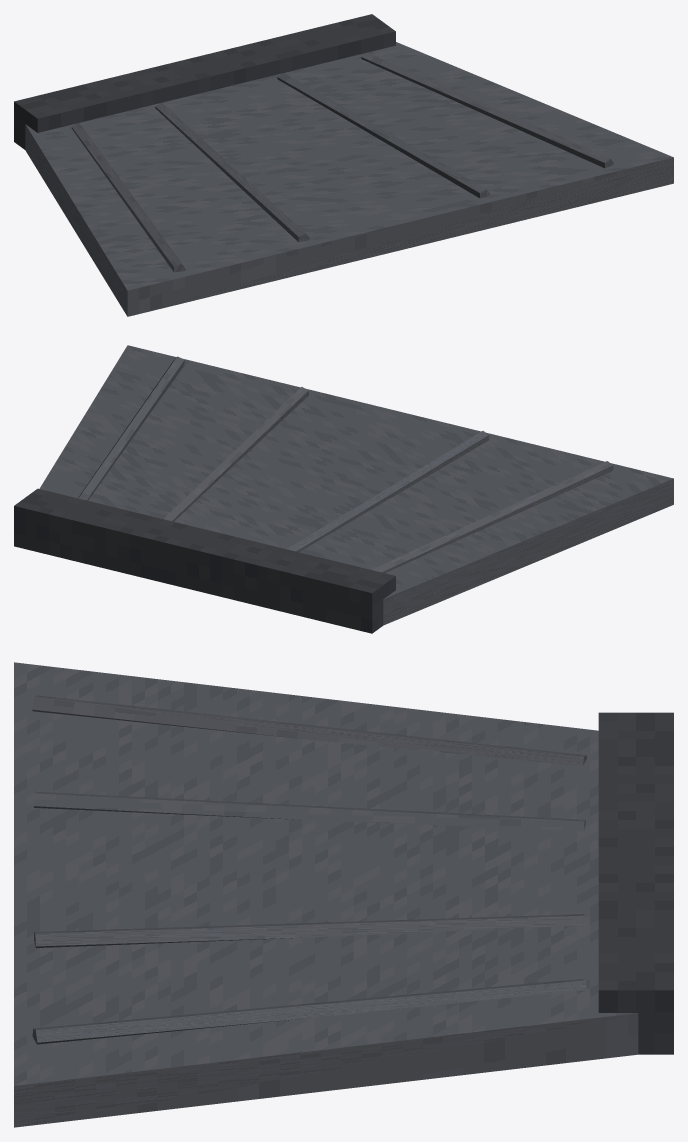
The model's file is kilt_leather.glb.
3 renders of one model, top to bottom at view 1: azimuth 30°, elevation 25°; view 2: azimuth 150°, elevation 25°; view 3: azimuth 270°, elevation 25°, orthographic. The views are drawn at different scales.
Parts seen in each view (by area): view 1: block_pleated skirt, block_waist band, block_pleat 0 (×4); view 2: block_pleated skirt, block_waist band, block_pleat 0 (×4); view 3: block_pleated skirt, block_pleat 0 (×4), block_waist band.
Part boxes in pixels (box(x1,y1,x2,y2)): block_pleated skirt: box(25, 42, 673, 316); block_waist band: box(14, 14, 395, 149); block_pleat 0 (×4): box(71, 52, 613, 272); block_pleated skirt: box(39, 345, 673, 625); block_waist band: box(14, 488, 395, 633); block_pleat 0 (×4): box(78, 356, 613, 573); block_pleated skirt: box(14, 662, 638, 1127); block_pleat 0 (×4): box(32, 695, 586, 1044); block_waist band: box(598, 712, 673, 1054).
Bounding box in the file's own units: 0.5609 × 0.0397 × 0.3693.
Materials: 1 (1 with a texture image).
